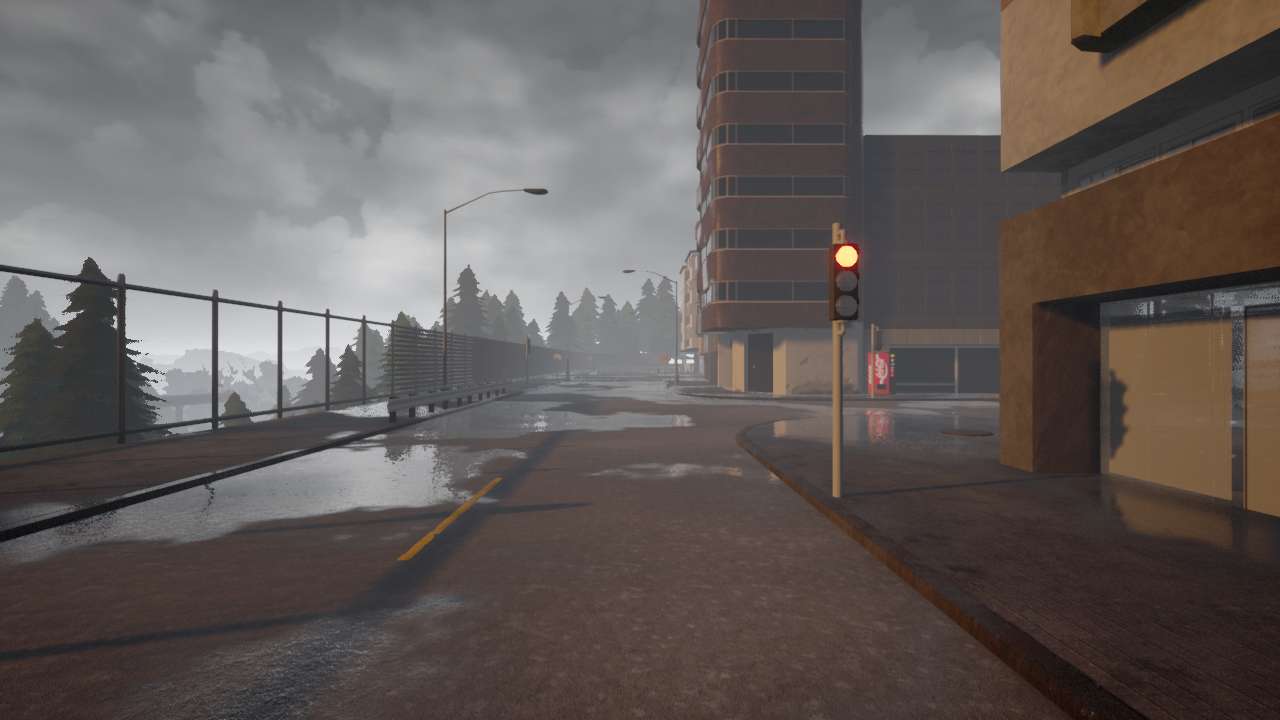red: (830, 238, 859, 323)
